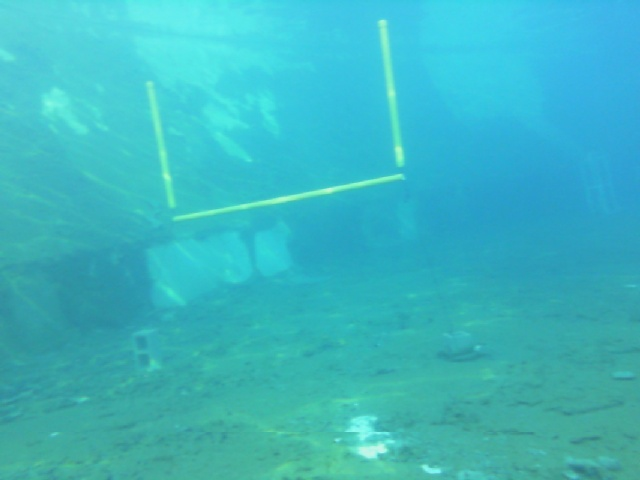channel: (145, 15, 409, 230)
